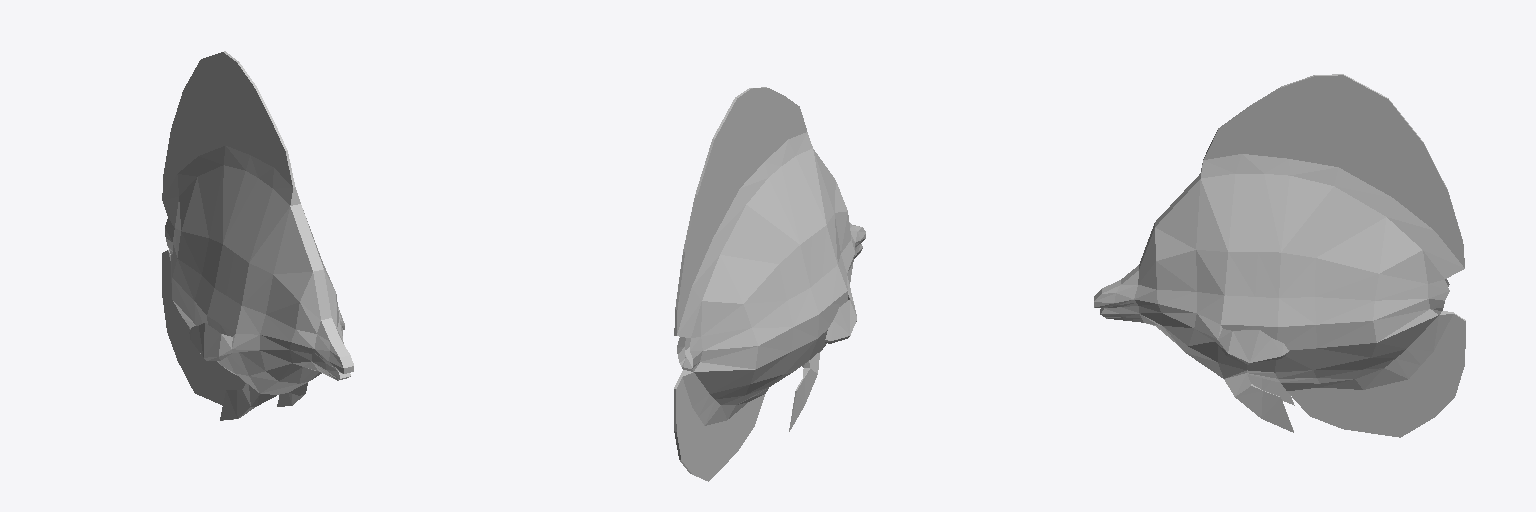
File: cuerpoPez5.obj
3 renders of one model, left to right at view 1: azimuth 30°, elevation 25°; view 2: azimuth 150°, elevation 25°; view 3: azimuth 270°, elevation 25°, orthographic.
Visible parts, largest first — view 1: cuerpoPez6:TropicalFish05; view 2: cuerpoPez6:TropicalFish05; view 3: cuerpoPez6:TropicalFish05.
Part boxes in pixels (left/top/right/bottom): cuerpoPez6:TropicalFish05: left=162, top=51, right=353, bottom=420; cuerpoPez6:TropicalFish05: left=674, top=87, right=865, bottom=481; cuerpoPez6:TropicalFish05: left=1094, top=74, right=1465, bottom=437.
Bounding box in the file's own units: 0.4603 × 1.18 × 1.1.